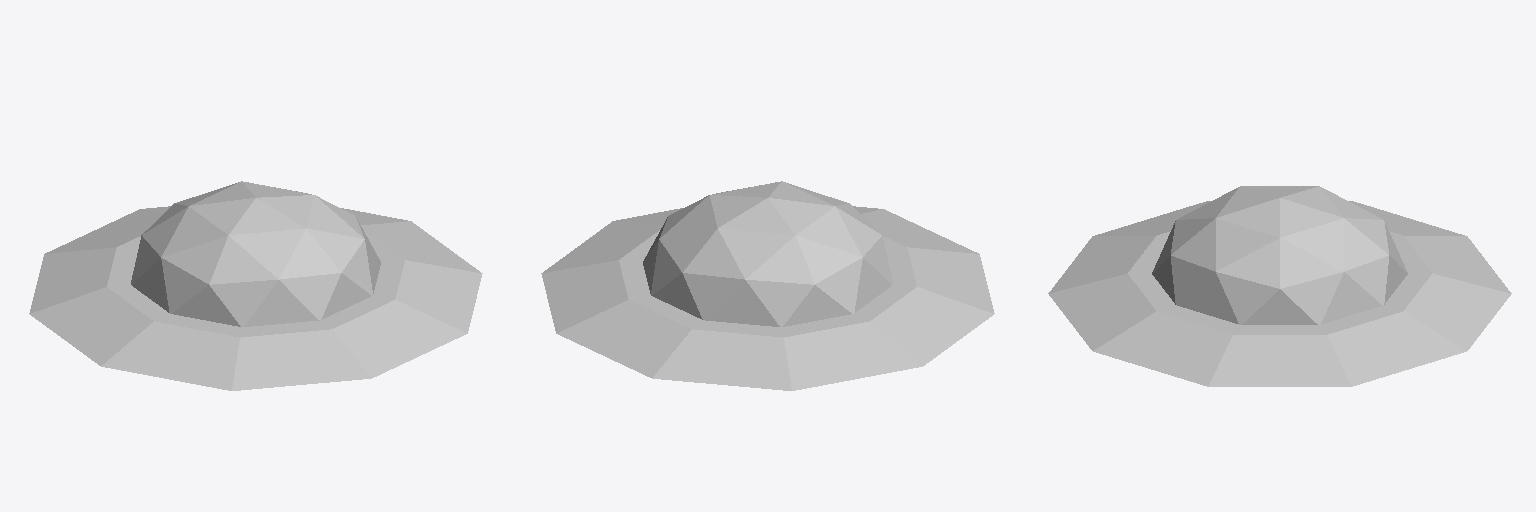
Rendered from ufo.obj.
The picture shows the model from 3 angles: view 1: azimuth 30°, elevation 25°; view 2: azimuth 150°, elevation 25°; view 3: azimuth 270°, elevation 25°; orthographic projection.
Parts seen in each view (by area): view 1: Cylinder, Icosphere; view 2: Cylinder, Icosphere; view 3: Cylinder, Icosphere.
Boxes of the visible parts, x1=… form: Cylinder: x1=29, y1=206, x2=482, y2=390; Icosphere: x1=131, y1=181, x2=380, y2=326; Cylinder: x1=541, y1=206, x2=994, y2=390; Icosphere: x1=643, y1=181, x2=892, y2=326; Cylinder: x1=1048, y1=201, x2=1511, y2=386; Icosphere: x1=1152, y1=186, x2=1407, y2=324.
Size of the model in its own units: 2.8 by 0.815 by 2.94.